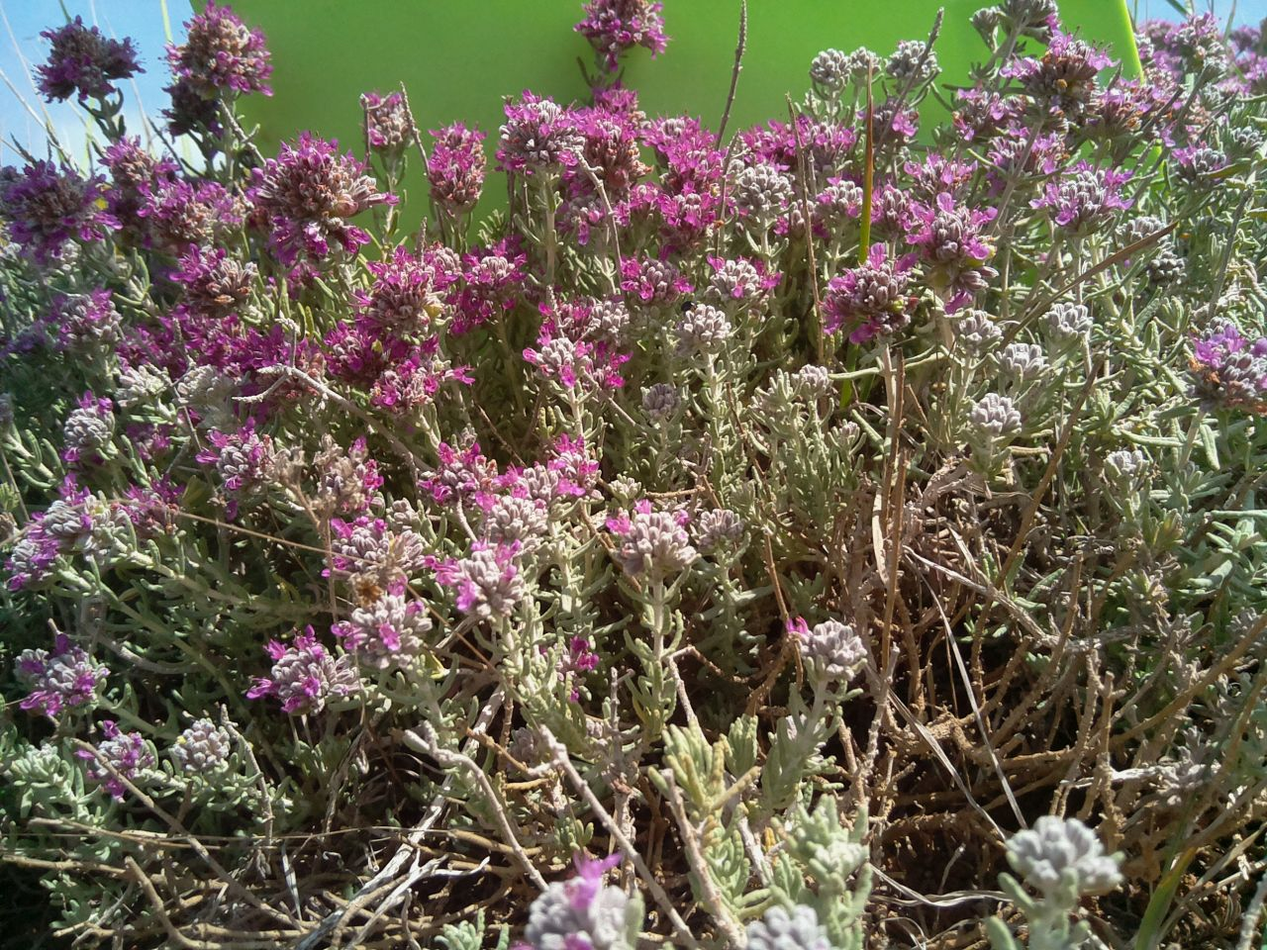Beetle: (674, 293, 698, 322)
